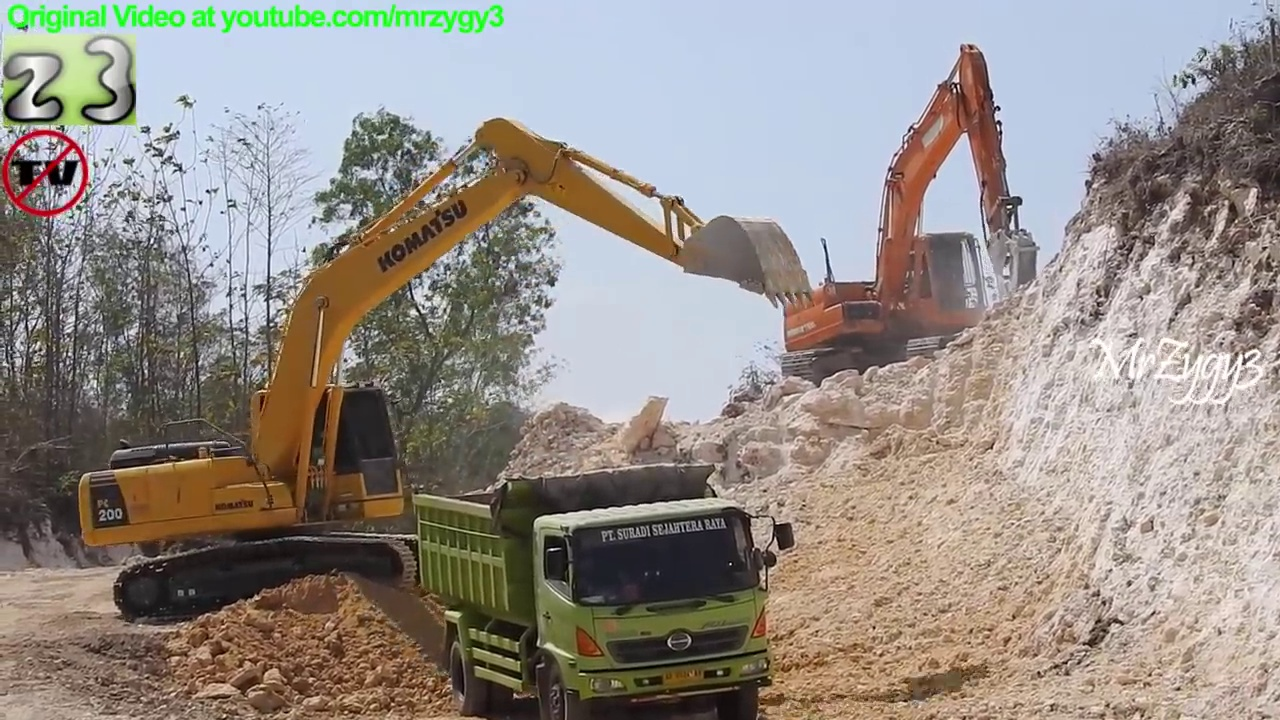excavator: (71, 114, 820, 636), (772, 43, 1048, 395)
truck: (412, 458, 798, 720)
